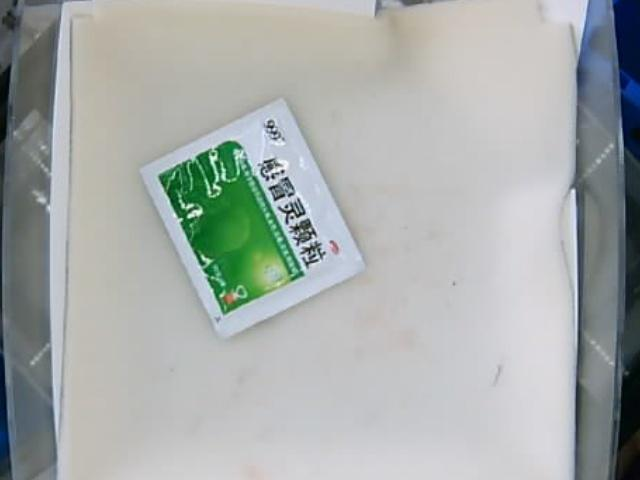Medicine: (136, 98, 367, 339)
